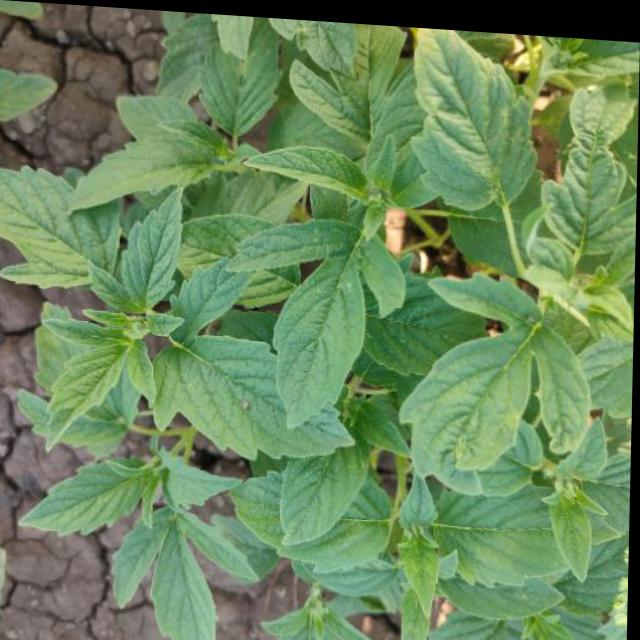crop: (0, 1, 635, 640)
